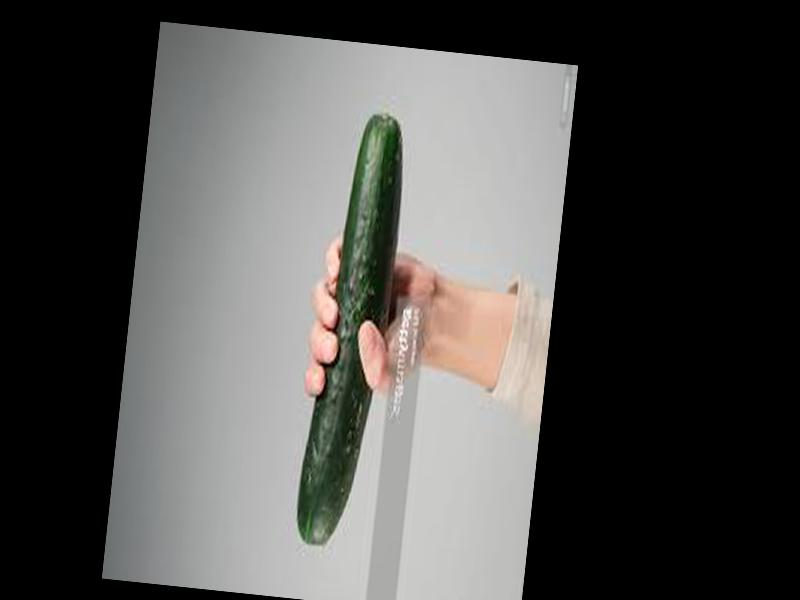Cucumber: (293, 117, 409, 550)
